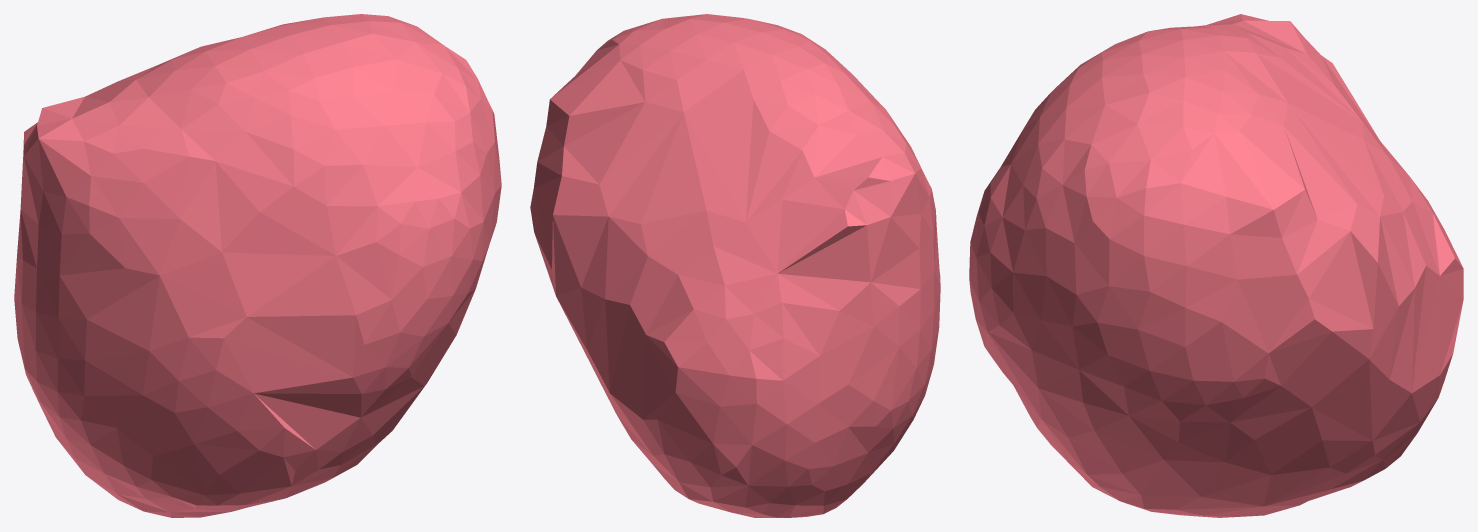
The model's file is Model_435_RH__Red_nucleus_(R).obj.
The picture shows the model from 3 angles, left to right: view 1: azimuth 30°, elevation 25°; view 2: azimuth 150°, elevation 25°; view 3: azimuth 270°, elevation 25°; orthographic projection. The views are drawn at different scales.
Bounding box in the file's own units: 0.9846 × 1.07 × 0.9856.
